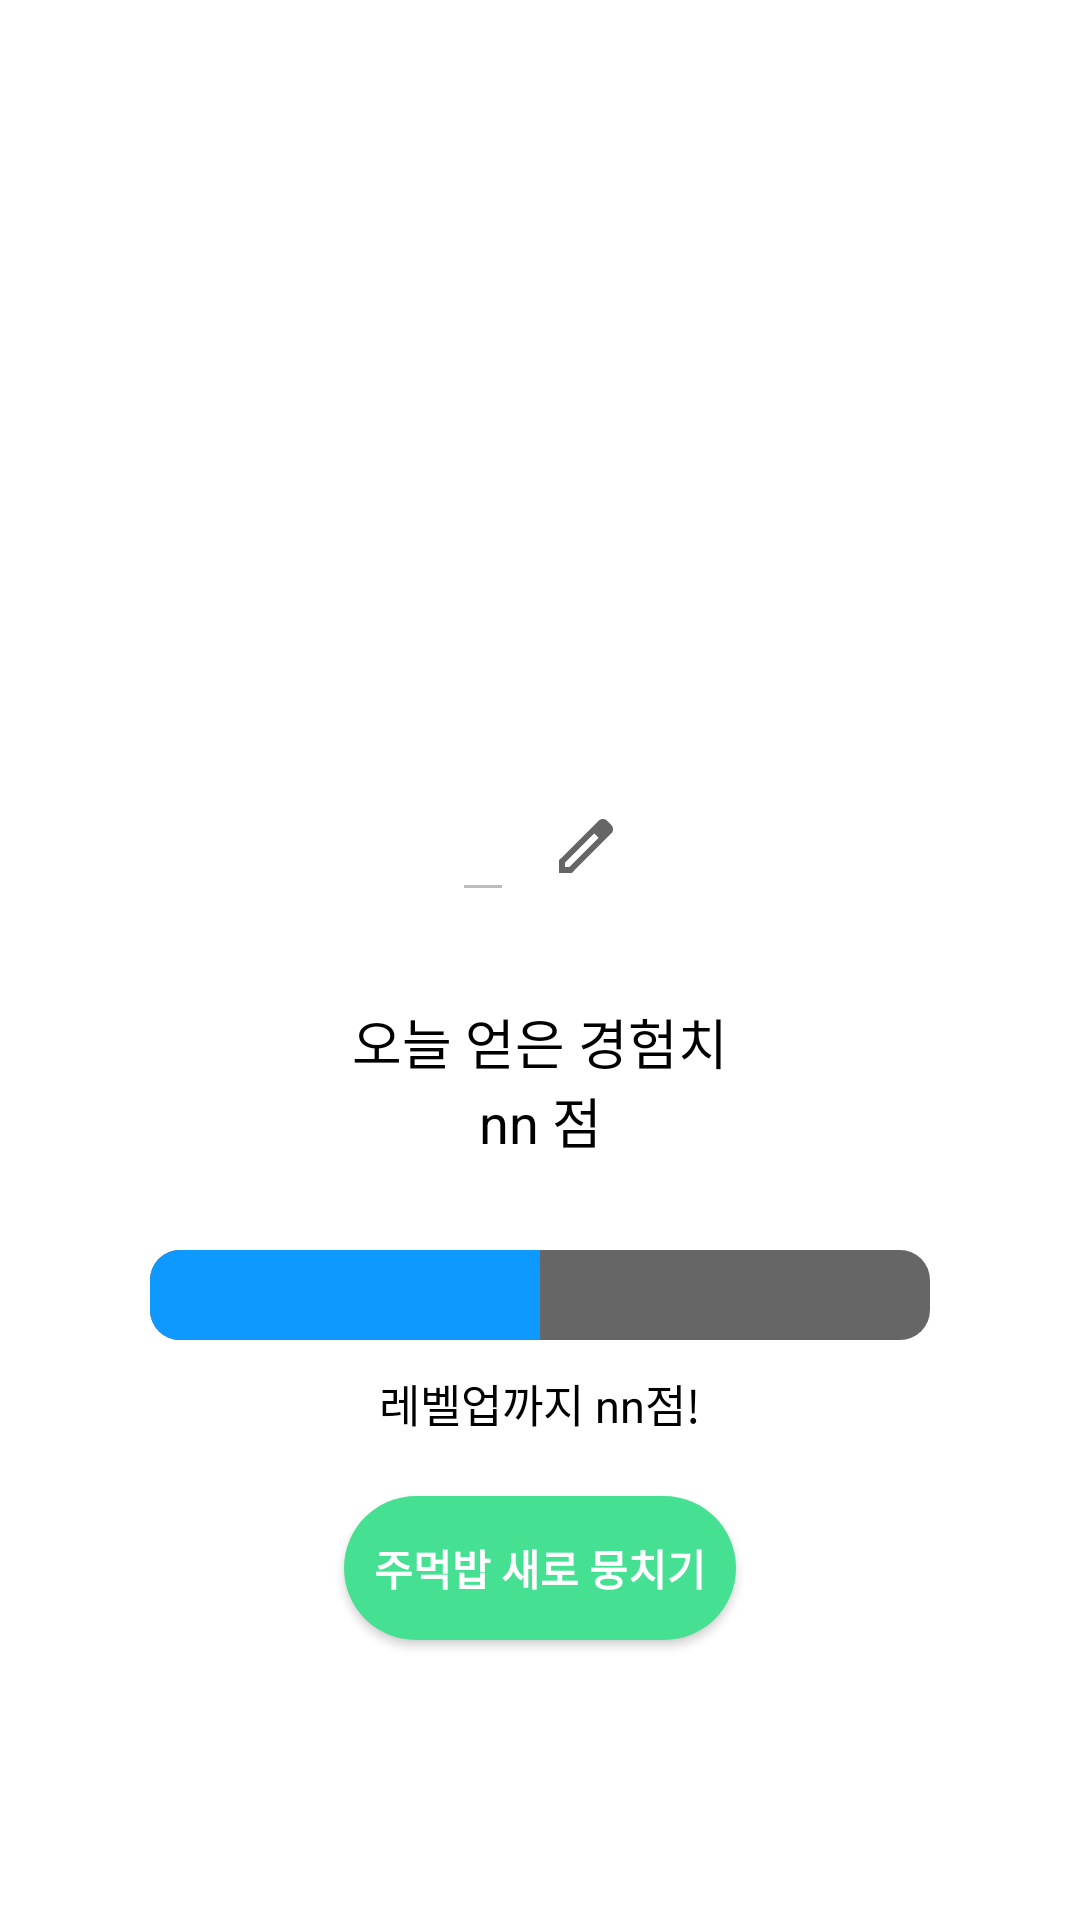

Point at icon controls on the screen. Image size 1080×1920, points as point (x, y).
editpen: point (586, 846)
